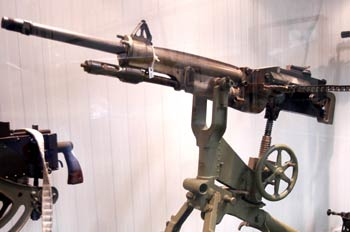rifle: (3, 12, 336, 168)
